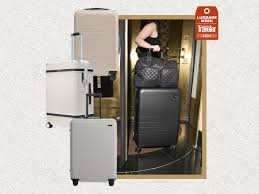suitcase: (129, 45, 184, 147), (43, 34, 97, 129), (70, 95, 120, 184), (75, 6, 120, 79)
